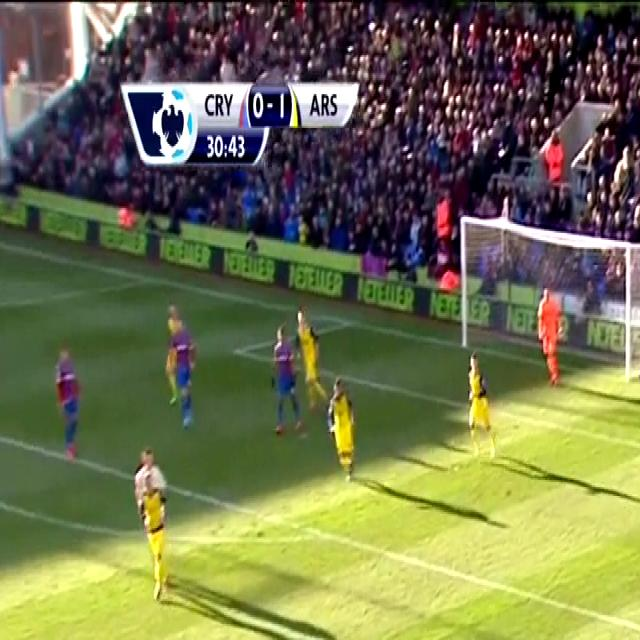goalkeeper: (528, 279, 572, 388)
soccer-player: (124, 438, 182, 605), (40, 342, 90, 475), (260, 322, 314, 445), (160, 309, 208, 432), (452, 349, 501, 462), (324, 374, 367, 482)
